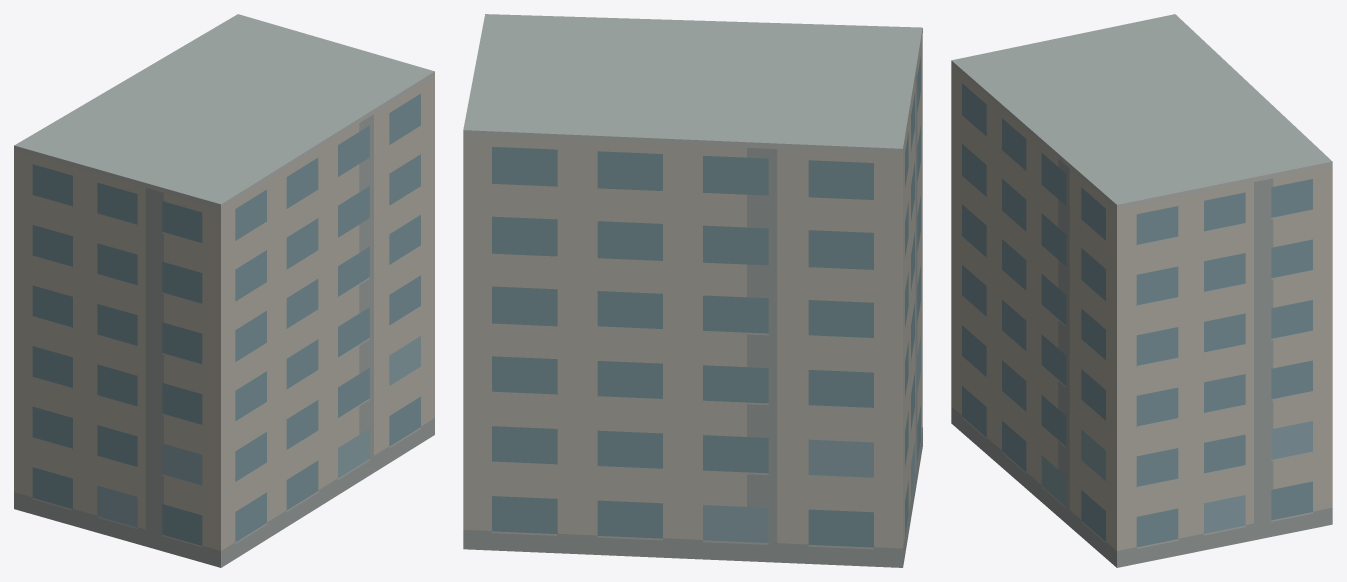
File: survey-upis-32826154.glb
3 views of the same model, side by side, from view 1: azimuth 30°, elevation 25°; view 2: azimuth 150°, elevation 25°; view 3: azimuth 270°, elevation 25° (orthographic). The views are drawn at different scales.
Parts seen in each view (by area): view 1: survey-upis-32826154.tmp; view 2: survey-upis-32826154.tmp; view 3: survey-upis-32826154.tmp.
Boxes of the visible parts, x1,y1,x2,y2 form: survey-upis-32826154.tmp: (14, 14, 434, 567); survey-upis-32826154.tmp: (463, 14, 922, 567); survey-upis-32826154.tmp: (951, 14, 1332, 567).
Size of the model in its own units: 20.64 by 18.3 by 17.43.
